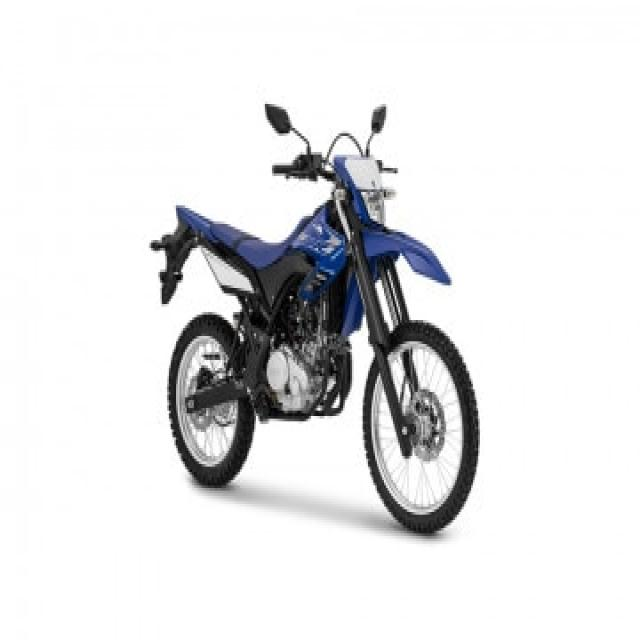Bike: (134, 98, 499, 537)
